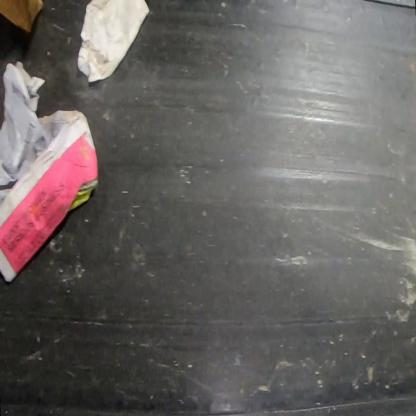cardboard: (0, 0, 44, 34)
